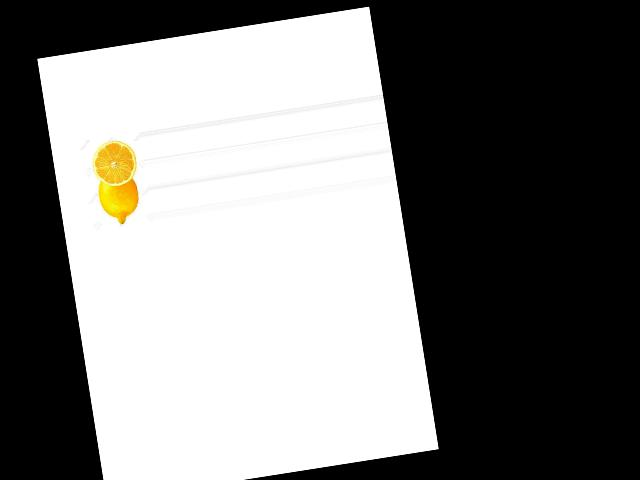lemon: (93, 168, 148, 227)
